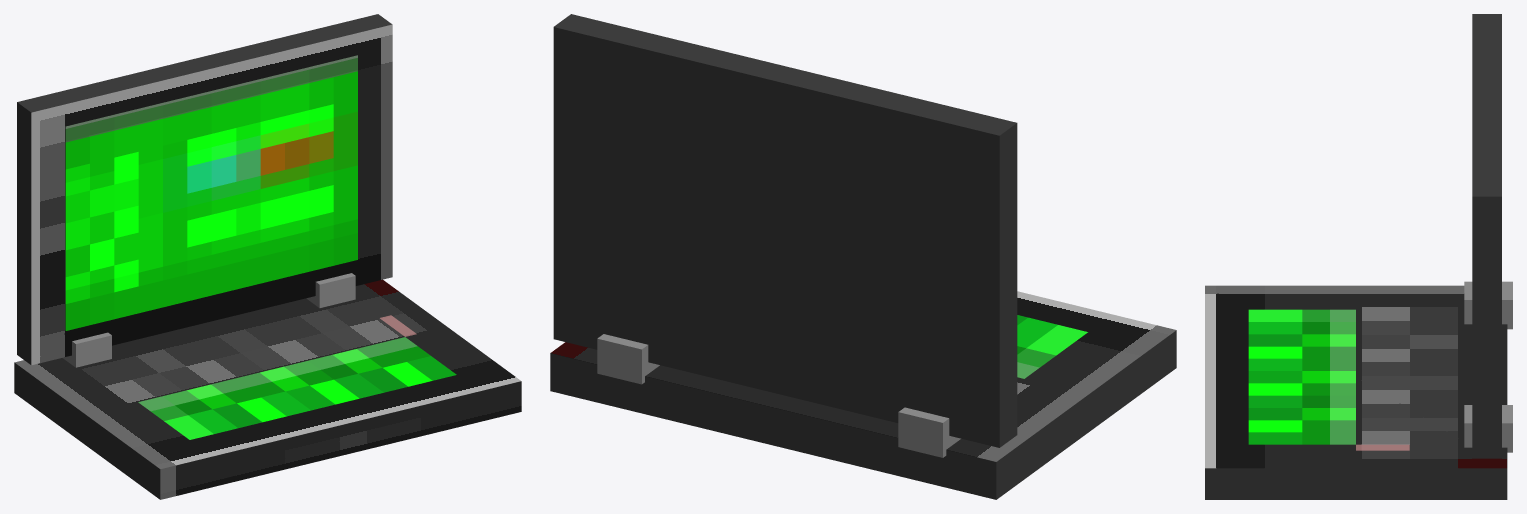
The model's file is medical_laptop.glb.
3 views of the same model, side by side, from view 1: azimuth 30°, elevation 25°; view 2: azimuth 150°, elevation 25°; view 3: azimuth 270°, elevation 25° (orthographic). The views are drawn at different scales.
Visible parts, largest first — view 1: Medical_Screen, Laptop_Base, Laptop_Lid, Powered_Keyboard, Hinge_Barrels; view 2: Laptop_Lid, Laptop_Base, Hinge_Barrels, Powered_Keyboard; view 3: Laptop_Base, Powered_Keyboard, Laptop_Lid, Hinge_Barrels.
Boxes of the visible parts, x1,y1,x2,y2 form: Medical_Screen: (65,55,357,330); Laptop_Base: (14,279,521,499); Laptop_Lid: (17,14,392,365); Powered_Keyboard: (138,315,456,439); Hinge_Barrels: (62,273,355,367); Laptop_Lid: (553,14,1017,447); Laptop_Base: (550,291,1176,499); Hinge_Barrels: (597,334,960,457); Powered_Keyboard: (1017,315,1087,378); Laptop_Base: (1205,285,1507,499); Powered_Keyboard: (1248,309,1409,450); Laptop_Lid: (1472,14,1501,458); Hinge_Barrels: (1464,281,1512,452).
Size of what is drawn, in the model's own units: 0.8 by 0.62 by 0.57.
Materials: 3 (3 with a texture image).
